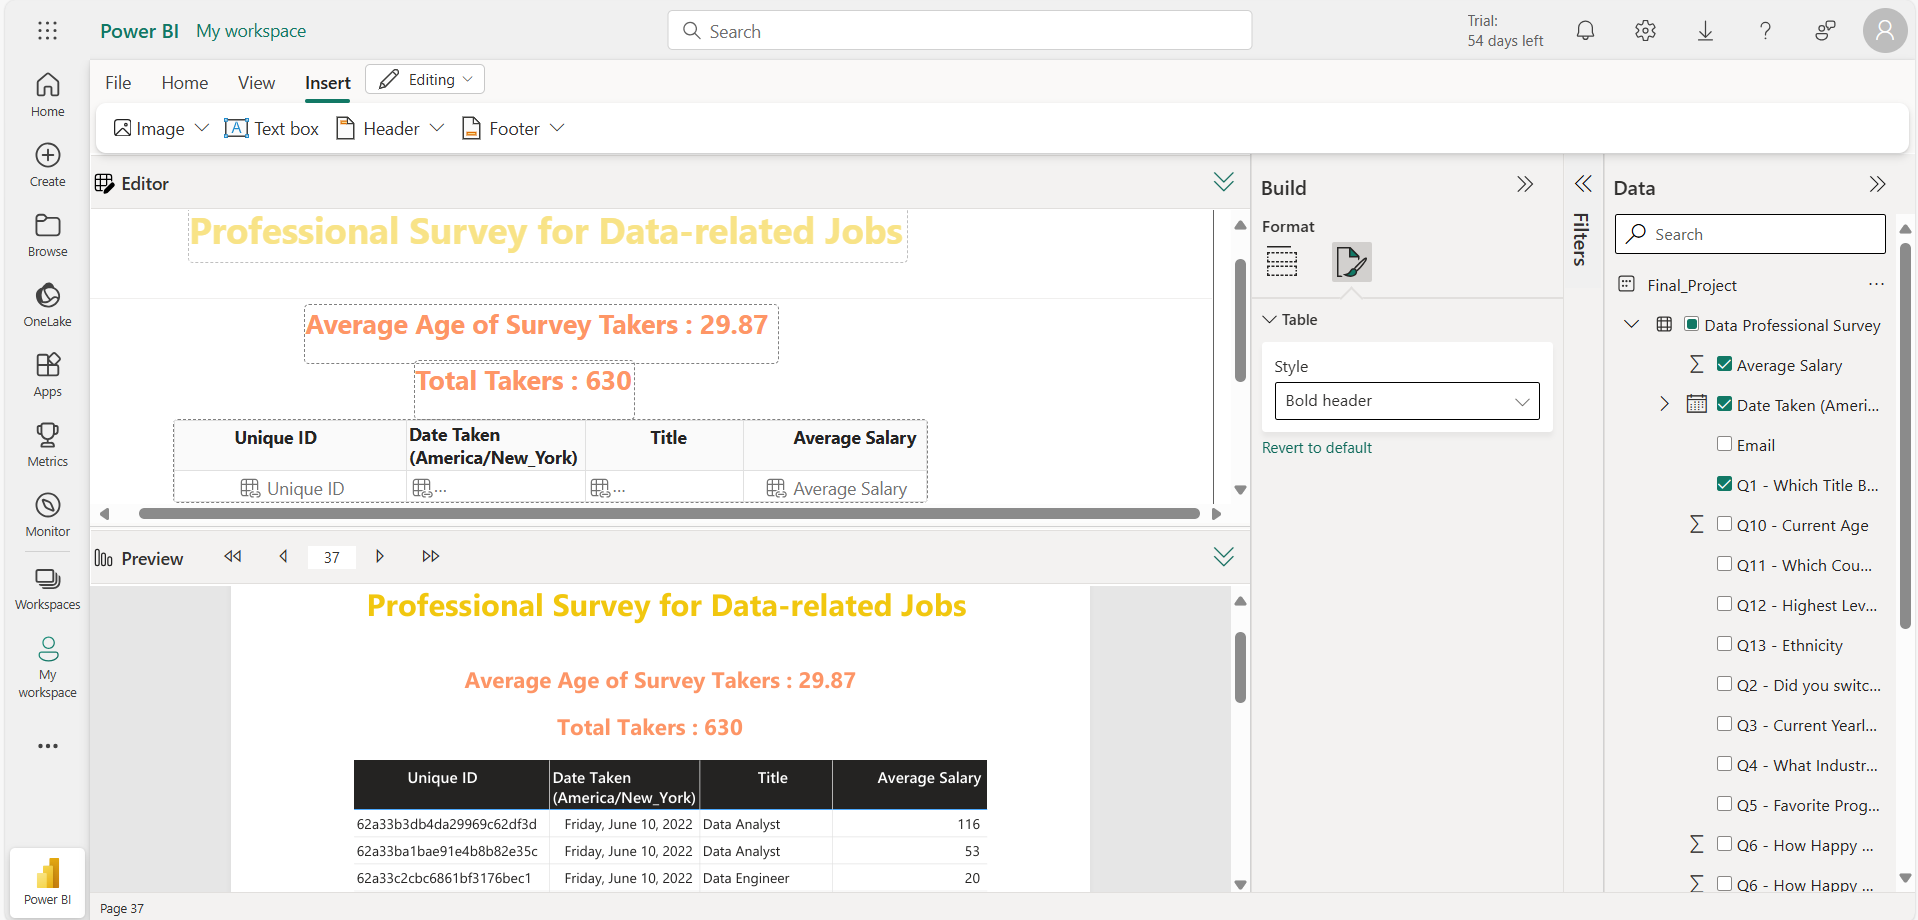

Layout of this report page (visuals, bound fields, positions):
{"tool":"powerbi","page":{"name":"Paginated_Report","canvas":[1280,720],"ordinal":1},"visuals":[{"type":"rdlVisual","box":[10.7,0,845.4,687],"z":0}]}

Visuals, with their boxes on the page's 1280x720 design canvas (x1, y1, x2, y2). These are canvas units, not pixel positions in the 1918x920 screenshot, which may show the page scaled, cropped or inside an application window:
rdlVisual: box=[11, 0, 856, 687]
